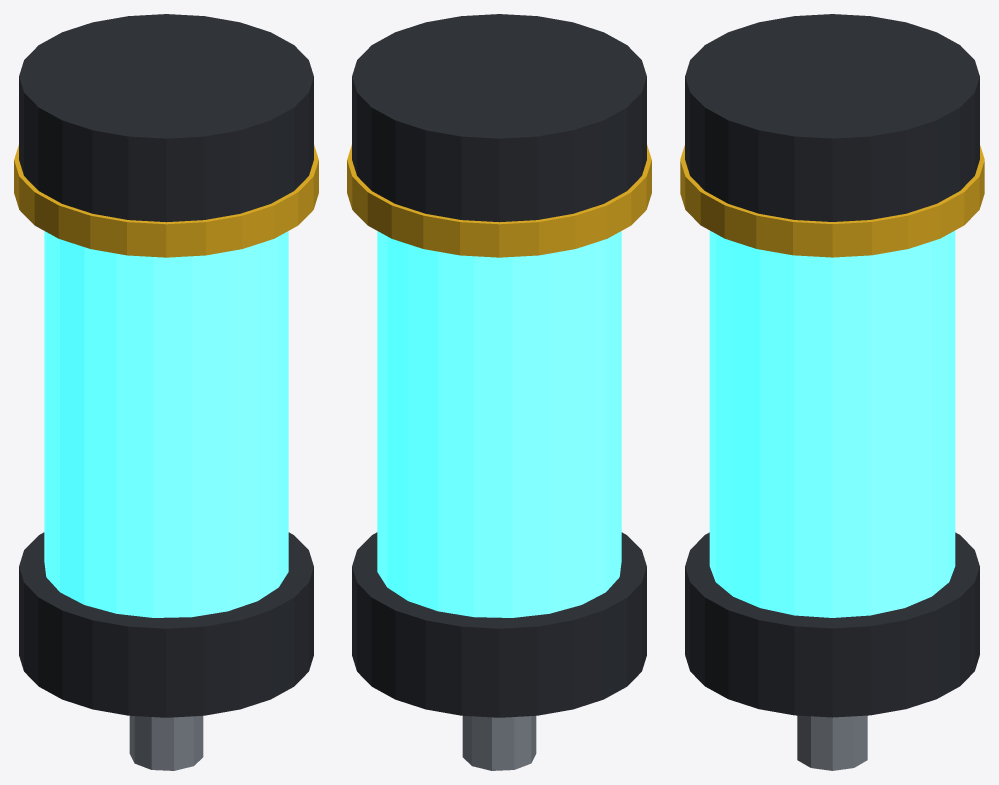
File: fuse_cell.glb
3 renders of one model, left to right at view 1: azimuth 30°, elevation 25°; view 2: azimuth 150°, elevation 25°; view 3: azimuth 270°, elevation 25°, orthographic.
Visible parts, largest first — view 1: glass, capt, capb, ring, pin; view 2: glass, capt, capb, ring, pin; view 3: glass, capt, capb, ring, pin.
Part boxes in pixels (x1,y1,x2,y2): glass: (44, 231, 288, 617); capt: (19, 14, 313, 222); capb: (19, 532, 313, 717); ring: (14, 145, 318, 257); pin: (129, 716, 203, 770); glass: (377, 231, 621, 617); capt: (352, 14, 646, 222); capb: (352, 532, 646, 717); ring: (347, 145, 651, 257); pin: (462, 716, 536, 770); glass: (709, 230, 955, 617); capt: (685, 14, 979, 221); capb: (685, 532, 979, 717); ring: (680, 145, 984, 257); pin: (797, 715, 867, 770).
Bounding box in the file's own units: 0.124 × 0.305 × 0.124.
